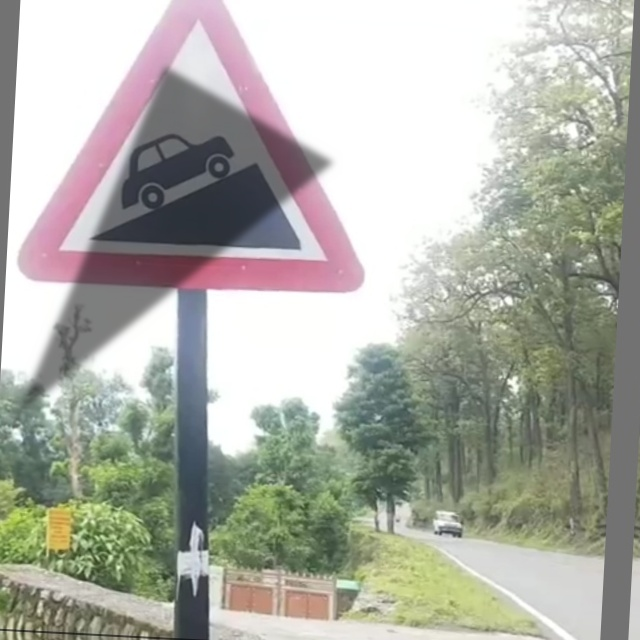Steep_Ascent: (35, 1, 374, 289)
